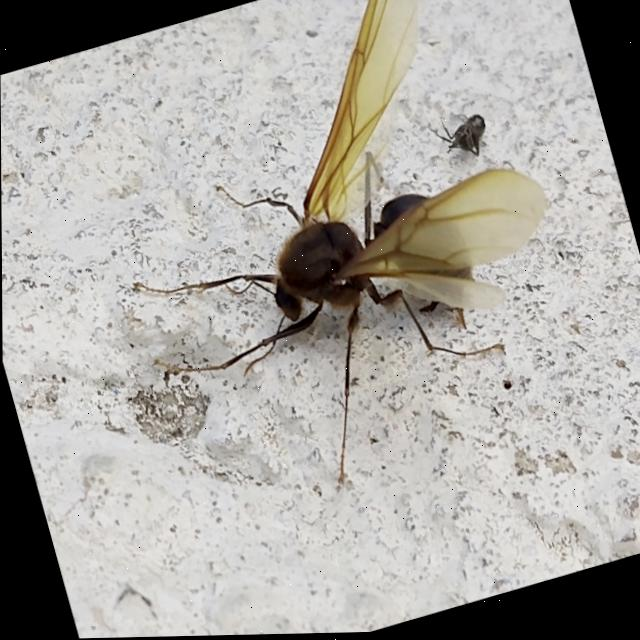Alive-Male-Alate: (65, 0, 606, 534)
